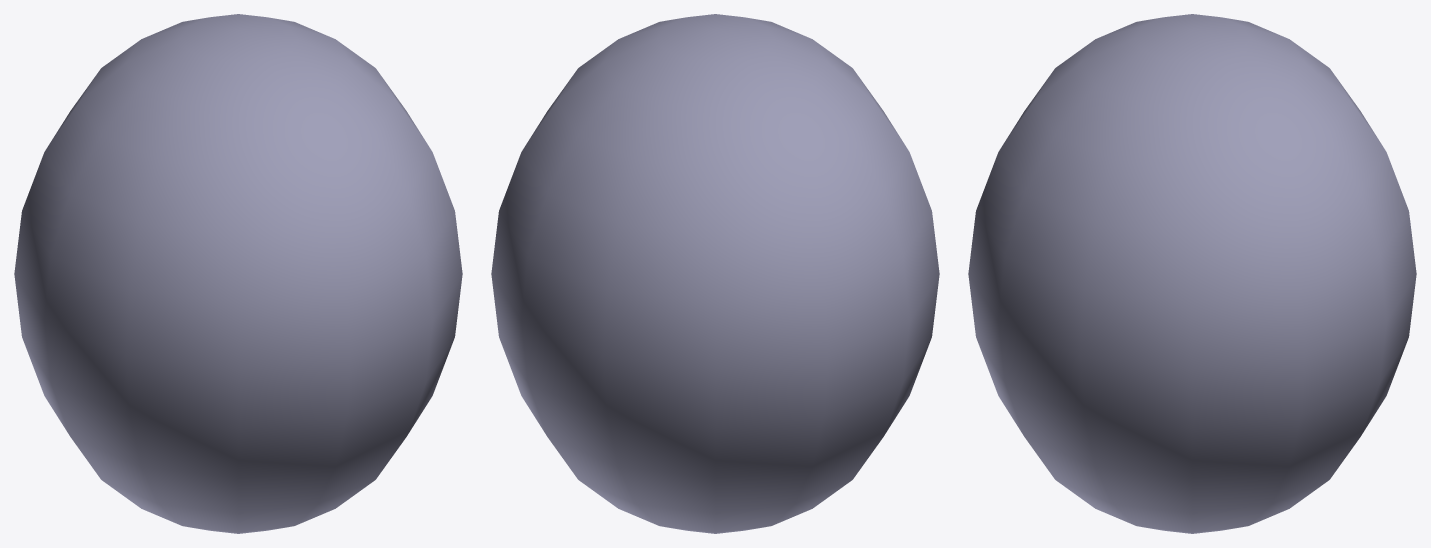
File: Ferrowurm_stage2.obj
3 renders of one model, left to right at view 1: azimuth 30°, elevation 25°; view 2: azimuth 150°, elevation 25°; view 3: azimuth 270°, elevation 25°, orthographic.
Size of the model in its own units: 2 by 2.4 by 2.
